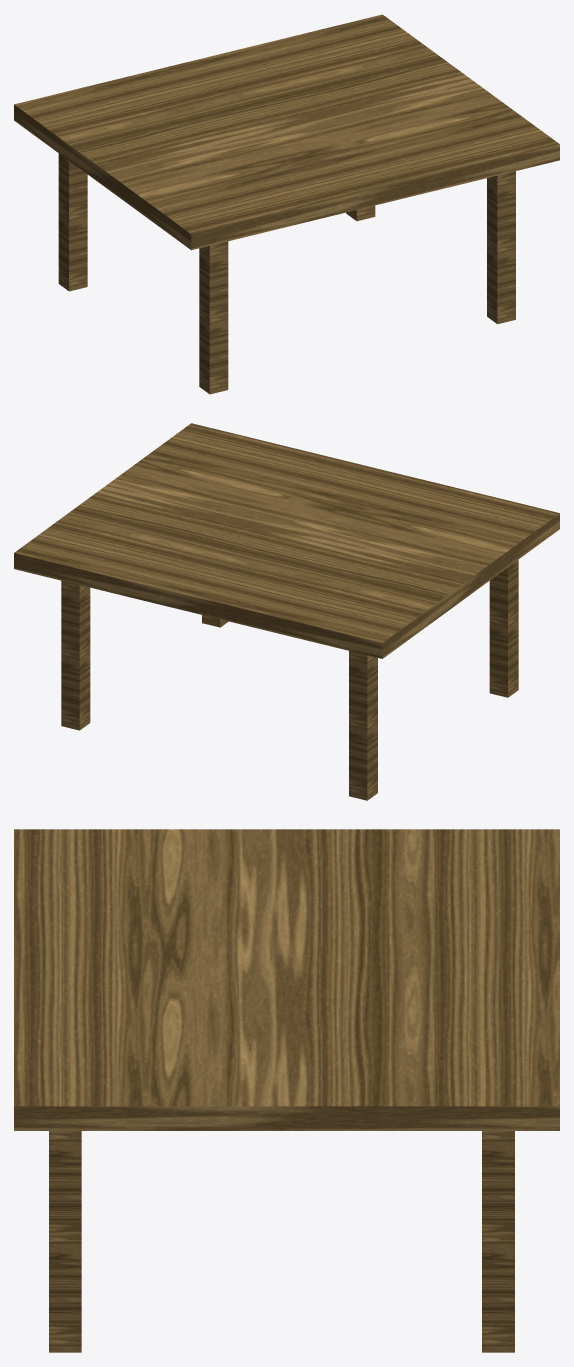
The model's file is table.obj.
3 views of the same model, one above another, from view 1: azimuth 30°, elevation 25°; view 2: azimuth 150°, elevation 25°; view 3: azimuth 270°, elevation 25° (orthographic). The views are drawn at different scales.
Parts seen in each view (by area): view 1: Box001, Box002, Box005, Box003; view 2: Box001, Box004, Box003, Box002; view 3: Box001, Box004, Box005.
Boxes of the visible parts, x1=… form: Box001: x1=14, y1=14, x2=559, y2=250; Box002: x1=199, y1=241, x2=228, y2=394; Box005: x1=487, y1=171, x2=515, y2=324; Box003: x1=58, y1=153, x2=87, y2=291; Box001: x1=14, y1=423, x2=559, y2=658; Box004: x1=61, y1=580, x2=90, y2=730; Box003: x1=349, y1=651, x2=377, y2=800; Box002: x1=489, y1=559, x2=518, y2=697; Box001: x1=14, y1=829, x2=559, y2=1130; Box004: x1=482, y1=1131, x2=514, y2=1352; Box005: x1=49, y1=1131, x2=81, y2=1352.
Bounding box in the file's own units: 120 × 54.71 × 100.
